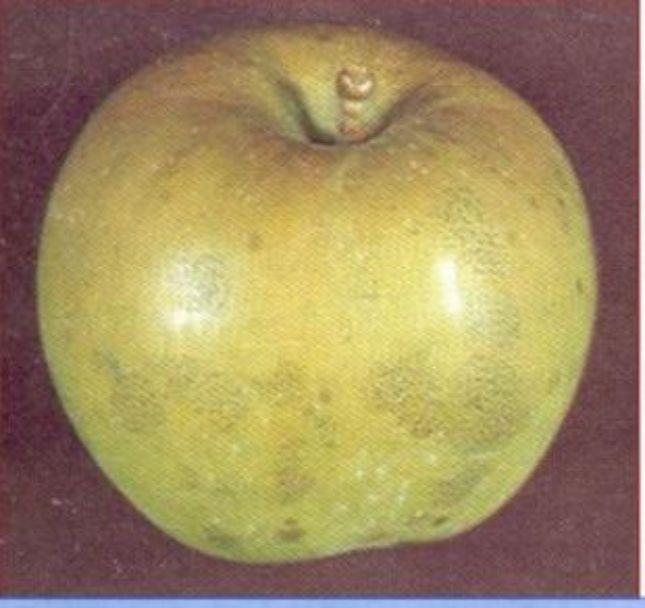BLOTCH: (35, 28, 617, 586)
